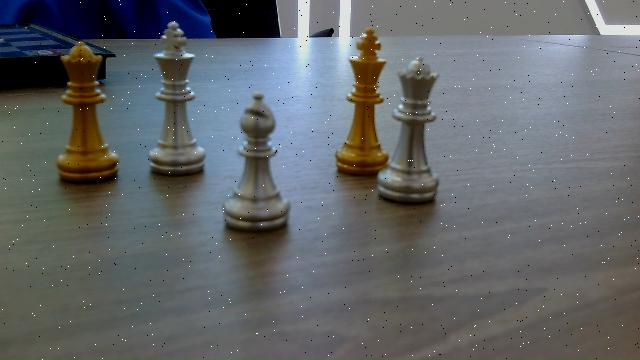black_king: (334, 28, 389, 173)
black_queen: (56, 42, 120, 180)
white_bishop: (221, 91, 292, 230)
white_king: (149, 20, 205, 173)
white_queen: (383, 56, 442, 202)
